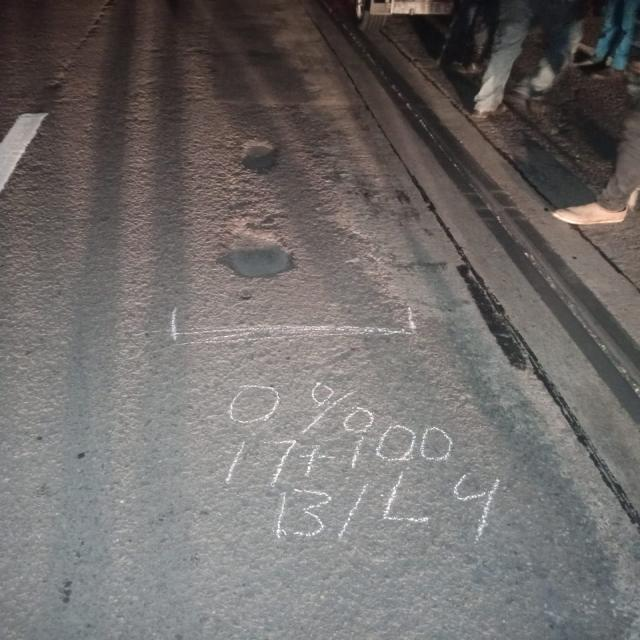Buraco: (214, 212, 300, 281), (233, 134, 283, 176)
